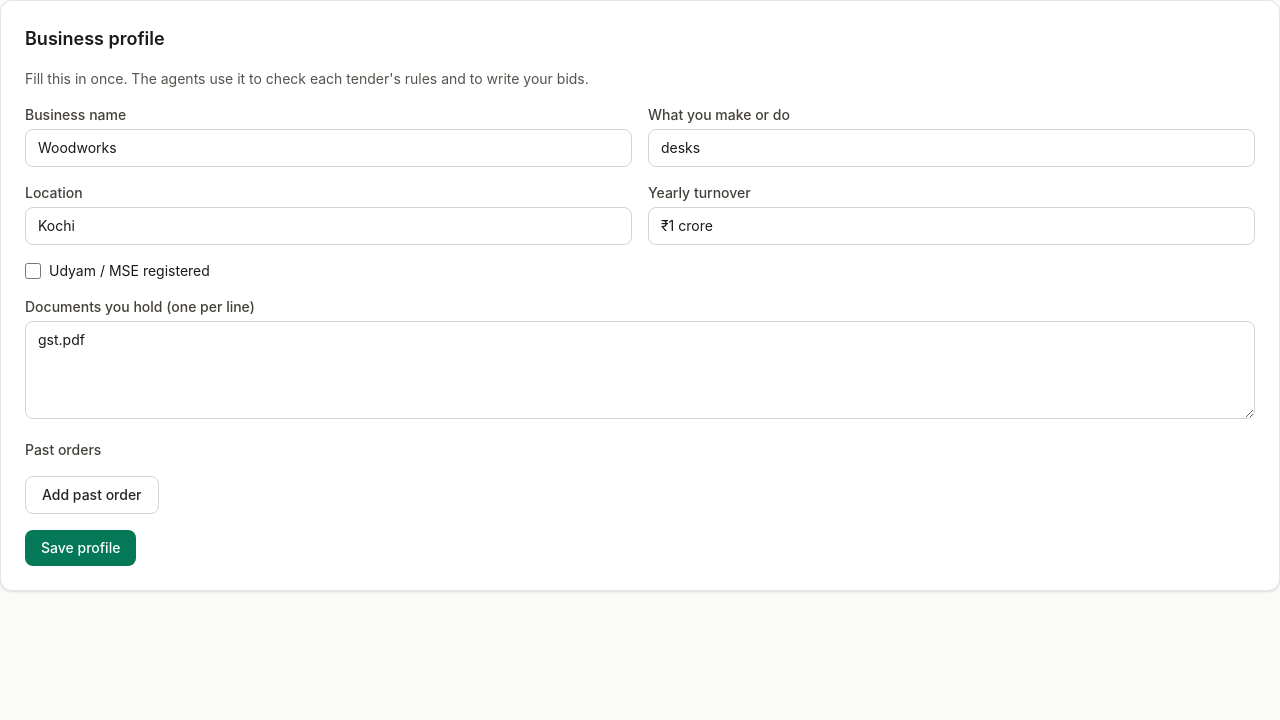
loads the saved profile and updates it by id
Expected: the field labelled "Business name" holds "Woodworks", [25,129,632,167]
Click the button "Save profile" at [81, 548], box [25,530,136,566]
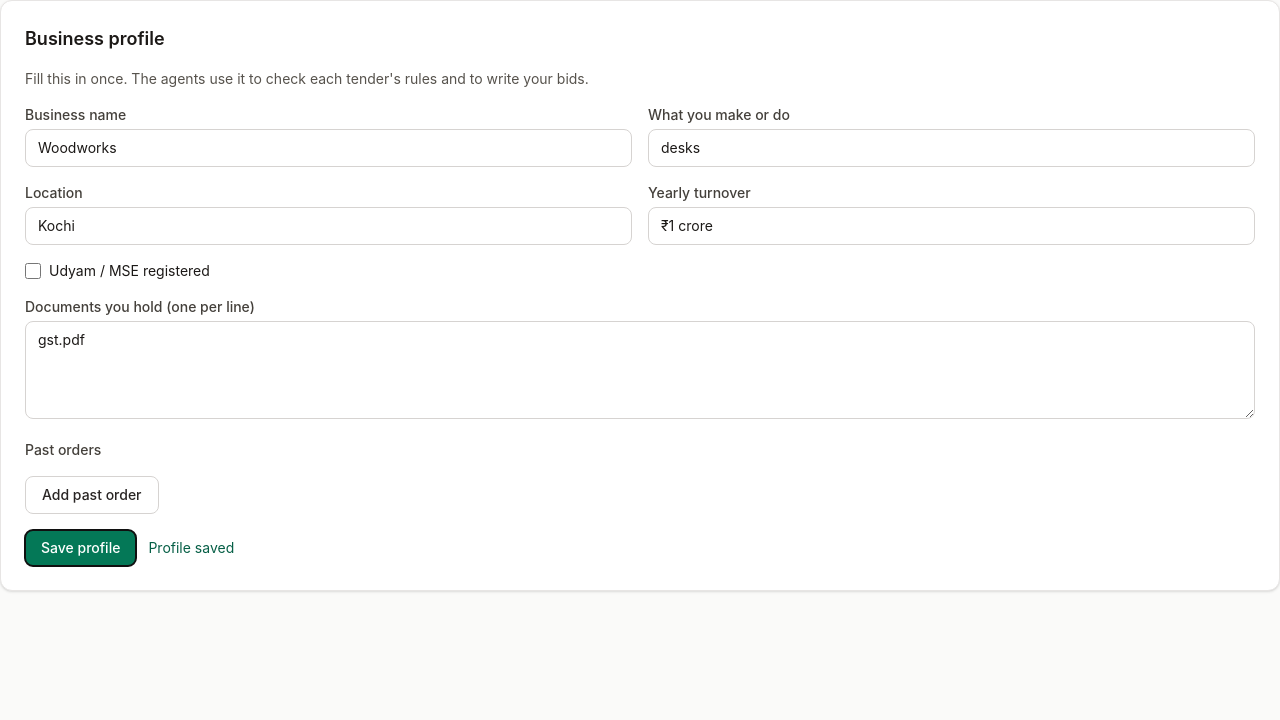
Now the text "Profile saved" is shown, box [148,538,234,558]
